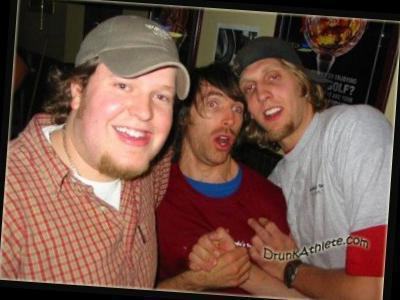Drunk: (95, 65, 171, 178), (242, 63, 303, 141), (192, 85, 244, 164)
